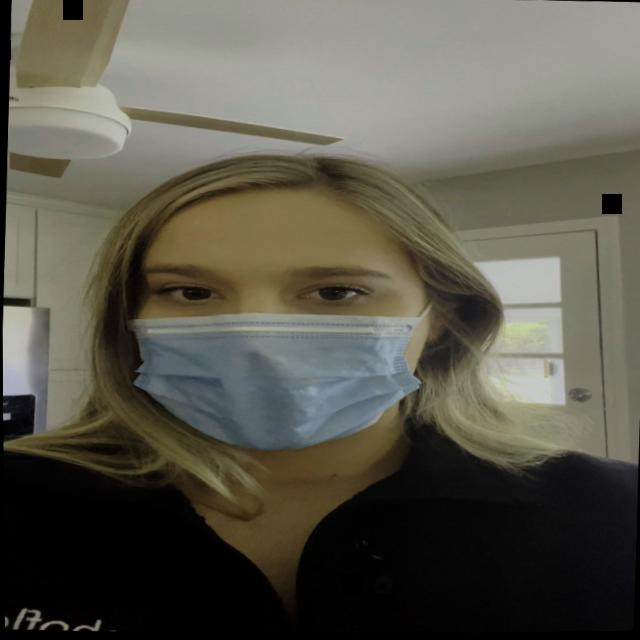Mask: (84, 158, 476, 481)
